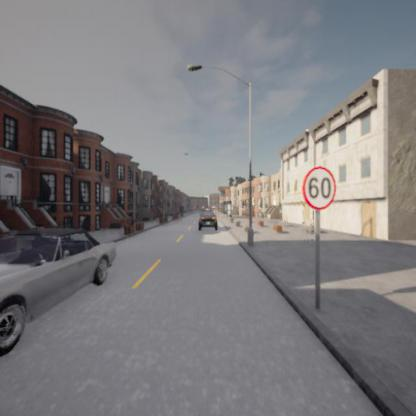traffic_sign_60: (301, 166, 336, 212)
vehicle: (1, 215, 118, 360), (197, 210, 217, 230)
